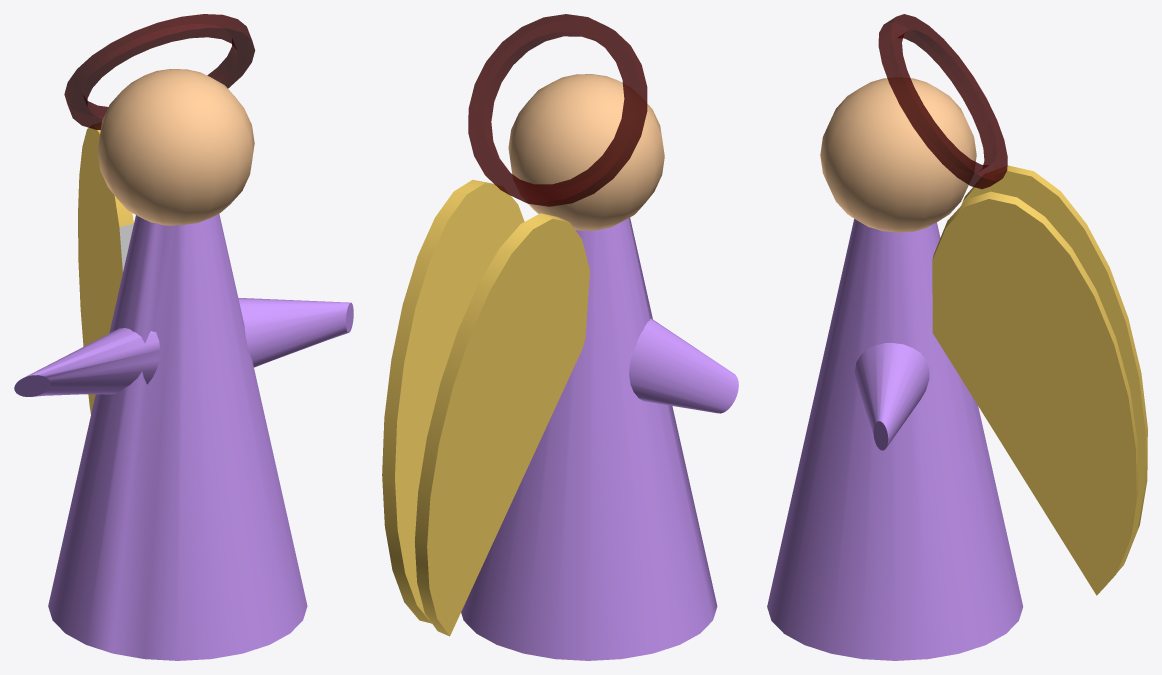
File: figura+ceramica+color.obj
3 renders of one model, left to right at view 1: azimuth 30°, elevation 25°; view 2: azimuth 150°, elevation 25°; view 3: azimuth 270°, elevation 25°, orthographic.
Parts seen in each view (by area): view 1: Mesh2 Model, Mesh1 sphere Model, Mesh6 Model, Mesh7 Model, Mesh4 Model, Mesh3 Model; view 2: Mesh2 Model, Mesh6 Model, Mesh5 Model, Mesh1 sphere Model, Mesh7 Model, Mesh4 Model; view 3: Mesh2 Model, Mesh5 Model, Mesh1 sphere Model, Mesh7 Model, Mesh6 Model, Mesh3 Model.
Boxes of the visible parts, x1,y1,x2,y2 form: Mesh2 Model: [48, 214, 307, 660]; Mesh1 sphere Model: [97, 69, 254, 225]; Mesh6 Model: [78, 123, 133, 414]; Mesh7 Model: [64, 14, 255, 129]; Mesh4 Model: [14, 328, 160, 396]; Mesh3 Model: [238, 298, 353, 367]; Mesh2 Model: [461, 217, 717, 660]; Mesh6 Model: [414, 213, 589, 636]; Mesh5 Model: [382, 179, 524, 623]; Mesh1 sphere Model: [508, 74, 664, 230]; Mesh7 Model: [468, 14, 647, 206]; Mesh4 Model: [629, 318, 738, 413]; Mesh2 Model: [767, 219, 1023, 660]; Mesh5 Model: [932, 191, 1137, 595]; Mesh1 sphere Model: [820, 78, 976, 232]; Mesh7 Model: [878, 14, 1007, 189]; Mesh6 Model: [961, 165, 1147, 587]; Mesh3 Model: [854, 343, 929, 450].
Size of the model in its own units: 93.6 by 161 by 95.18.
